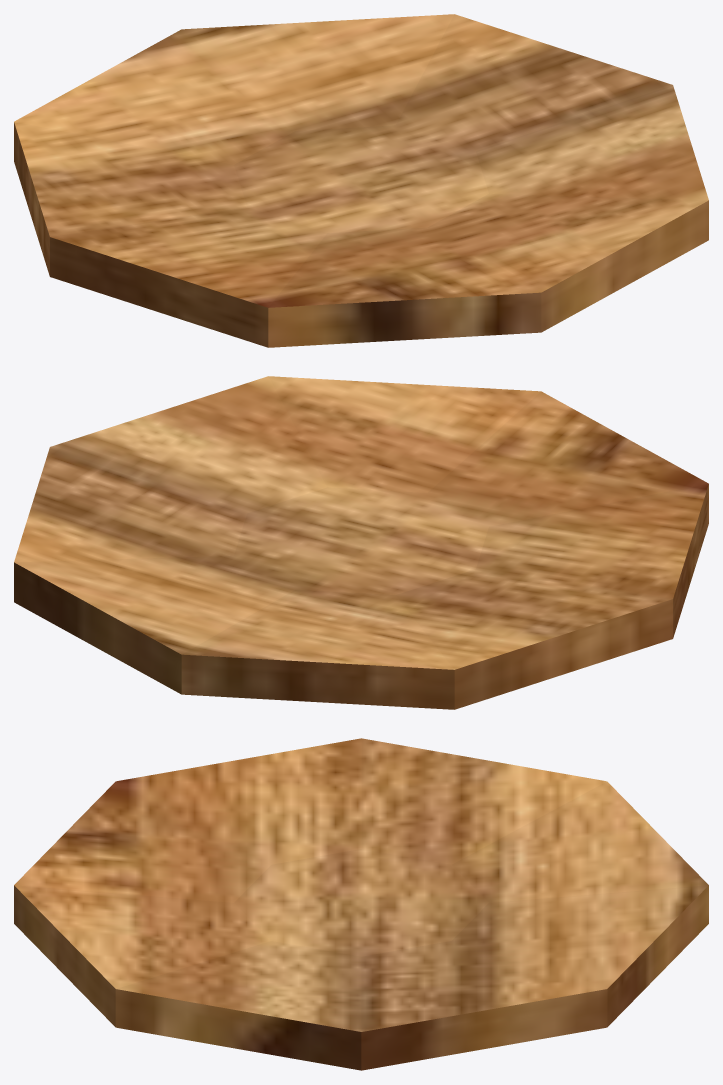
The model's file is Plate.fbx.
The picture shows the model from 3 angles, top to bottom: view 1: azimuth 30°, elevation 25°; view 2: azimuth 150°, elevation 25°; view 3: azimuth 270°, elevation 25°; orthographic projection. The views are drawn at different scales.
Parts seen in each view (by area): view 1: Cylinder; view 2: Cylinder; view 3: Cylinder.
Part boxes in pixels (box(x1,y1,x2,y2)): Cylinder: box(14, 14, 708, 347); Cylinder: box(14, 376, 708, 709); Cylinder: box(14, 738, 708, 1070).
Size of the model in its own units: 200 by 20.37 by 200.
Materials: 1 (1 with a texture image).
